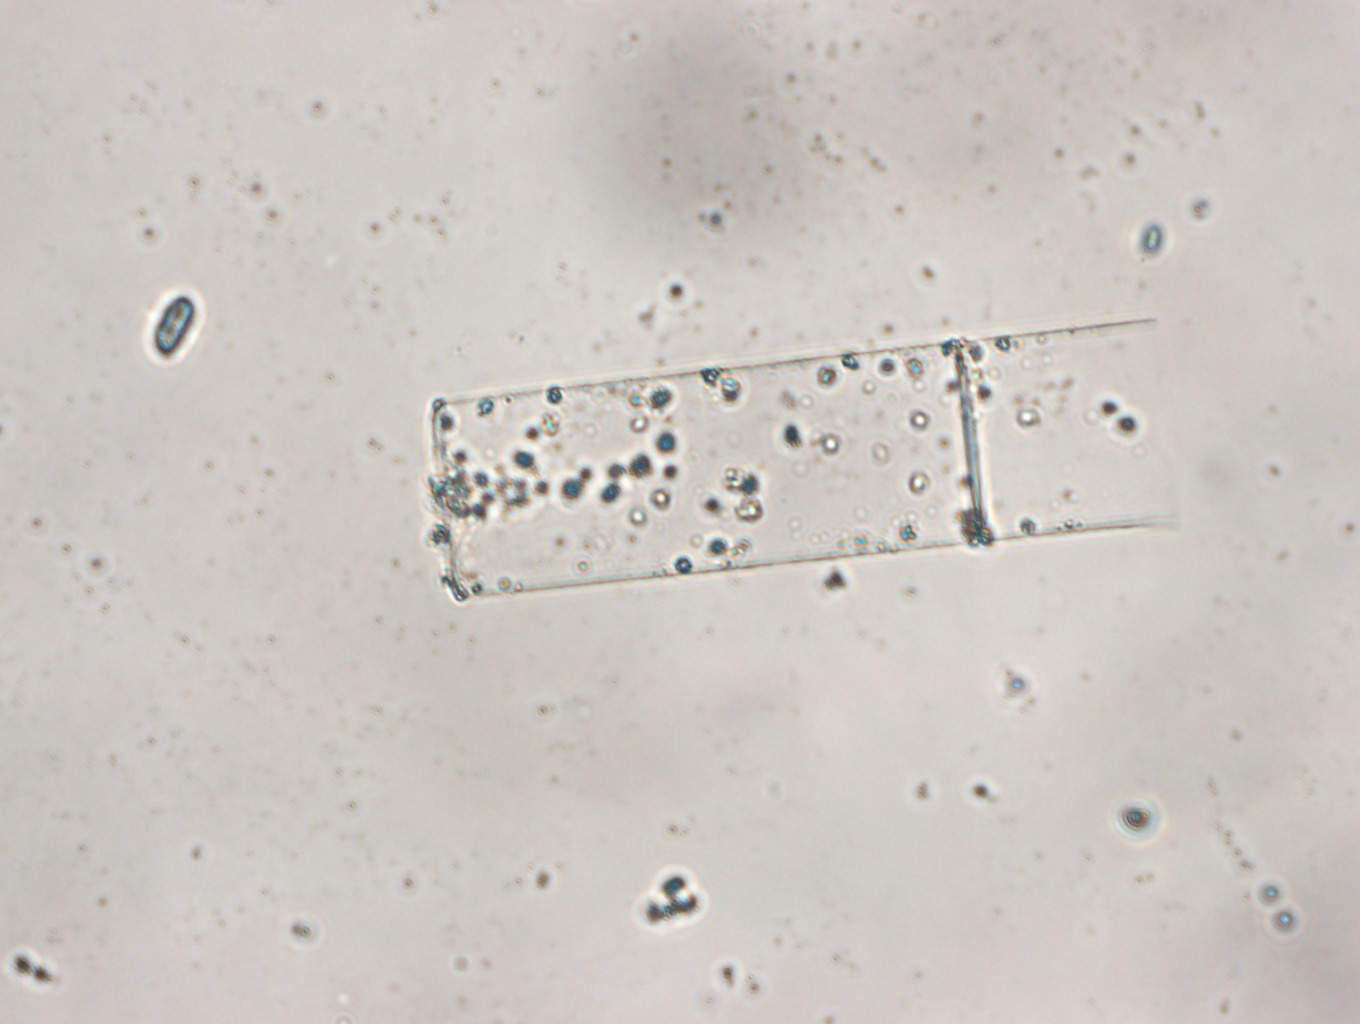guinardia flaccida: (423, 312, 1191, 607)
